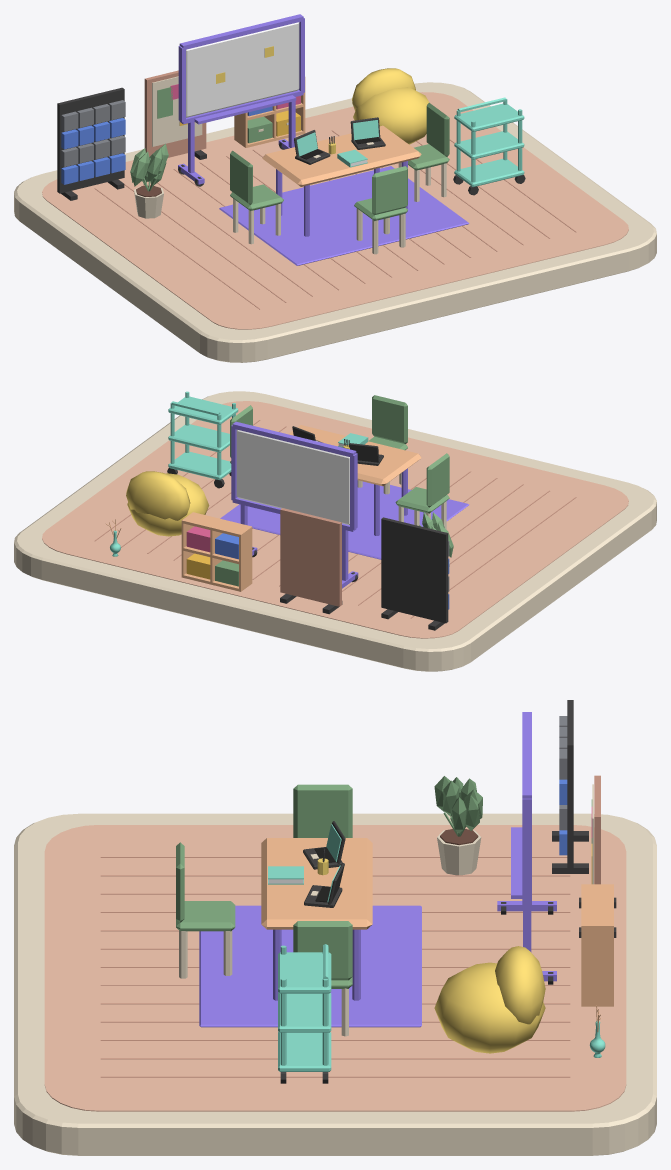
File: room.fbx
3 views of the same model, one above another, from view 1: azimuth 30°, elevation 25°; view 2: azimuth 150°, elevation 25°; view 3: azimuth 270°, elevation 25° (orthographic). The views are drawn at different scales.
Visible parts, largest first — view 1: COM-02 Floor Surface, COM-01 Rounded Base Direct, Rug, Writing surface, Rounded table top, Beanbag shell, Panel, Pot, Backrest.002, Canvas, Panel.001, Back bolster (+12 smaller); view 2: COM-02 Floor Surface, COM-01 Rounded Base Direct, Writing surface, Panel, Panel.001, Rug, Back bolster, Rounded table top, Beanbag shell, Backrest.002, Tray, Tray.001 (+14 smaller); view 3: COM-02 Floor Surface, COM-01 Rounded Base Direct, Rug, Rounded table top, Beanbag shell, Pot, Backrest, Back bolster, Cubbies divider.002, Backrest.001, Tray.002, Tray.001 (+13 smaller).
Part boxes in pixels (x1,y1,x2,y2): COM-02 Floor Surface: (42,92,628,329); COM-01 Rounded Base Direct: (14,82,656,362); Rug: (219,166,469,265); Writing surface: (186,22,299,117); Rounded table top: (262,125,421,186); Beanbag shell: (353,87,429,144); Panel: (57,87,124,193); Pot: (130,143,168,218); Backrest.002: (372,166,407,215); Canvas: (152,76,202,146); Panel.001: (144,70,206,157); Back bolster: (352,68,415,110); COM-02 Floor Surface: (42,401,628,638); COM-01 Rounded Base Direct: (14,391,656,671); Writing surface: (236,429,349,525); Panel: (381,517,448,623); Panel.001: (280,508,341,606); Rug: (220,481,468,559); Back bolster: (126,471,190,520); Rounded table top: (288,425,421,486); Beanbag shell: (127,473,209,536); Backrest.002: (372,395,407,443); Tray: (168,451,231,480); Tray.001: (168,424,229,452); COM-02 Floor Surface: (44,825,626,1111); COM-01 Rounded Base Direct: (14,813,656,1155); Rug: (199,905,421,1027); Rounded table top: (261,838,372,929); Beanbag shell: (434,962,545,1053); Pot: (434,776,482,875); Backrest: (293,784,352,837); Back bolster: (495,946,545,1024); Cubbies divider.002: (581,925,613,1006); Backrest.001: (293,921,352,980); Tray.002: (278,952,331,993); Tray.001: (278,992,331,1032).
Size of the model in its own units: 600 by 204 by 520.
